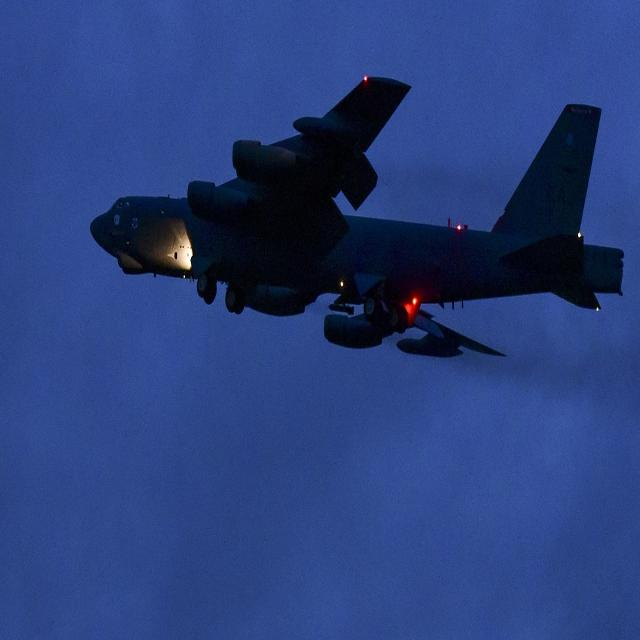MIL_Plane: (89, 182, 624, 253)
